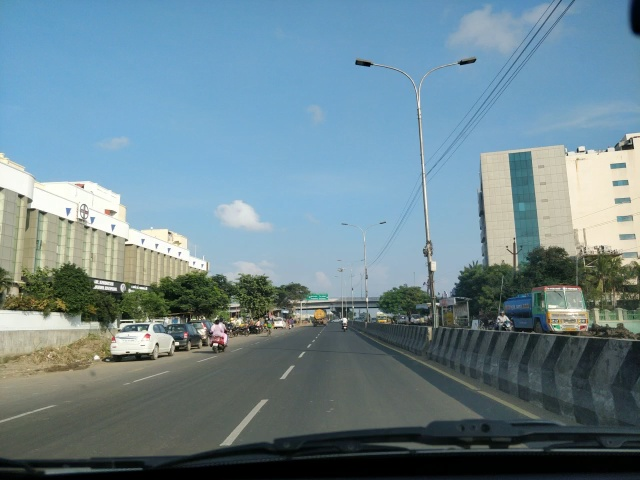car: (109, 321, 180, 359), (164, 322, 211, 350)
motorbike: (205, 317, 235, 355), (493, 310, 519, 342), (338, 313, 354, 334)
person: (264, 316, 276, 338)
truck: (496, 282, 592, 341), (310, 307, 331, 328)
